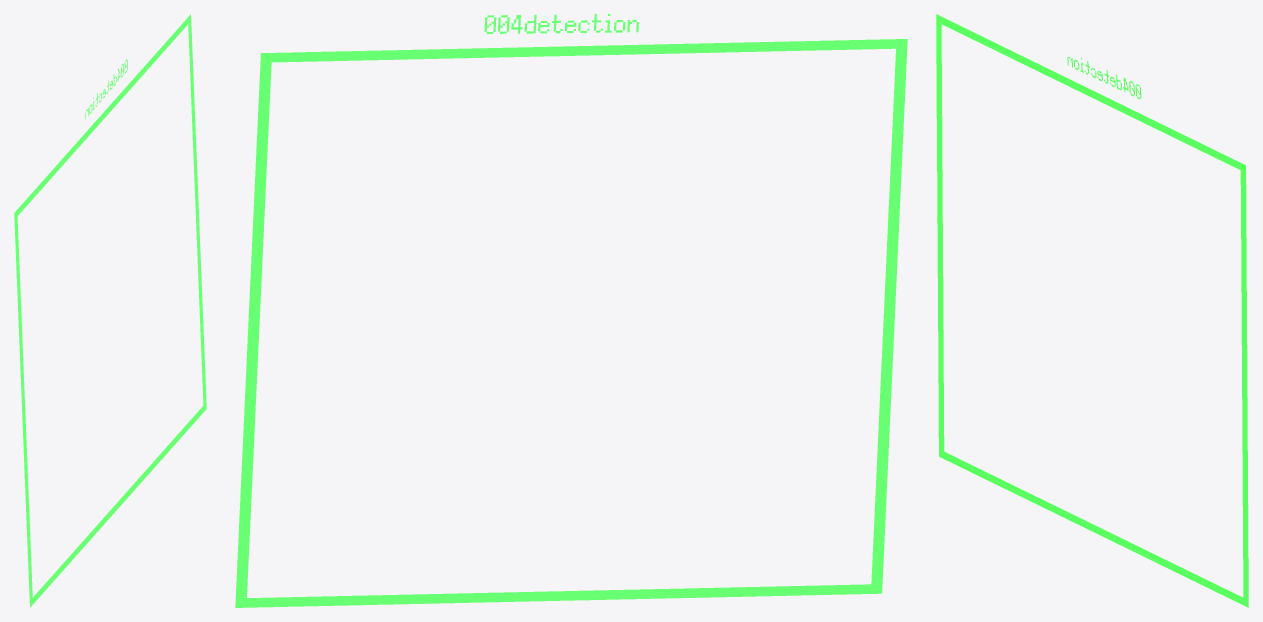
The model's file is 004detection.glb.
The picture shows the model from 3 angles, left to right: view 1: azimuth 30°, elevation 25°; view 2: azimuth 150°, elevation 25°; view 3: azimuth 270°, elevation 25°; orthographic projection. The views are drawn at different scales.
Parts seen in each view (by area): view 1: Detection02.002, Text.008; view 2: Detection02.002, Text.008; view 3: Detection02.002, Text.008.
Part boxes in pixels (bbox=[...]): Detection02.002: bbox=[14, 14, 206, 607]; Text.008: bbox=[85, 59, 127, 118]; Detection02.002: bbox=[235, 39, 907, 607]; Text.008: bbox=[484, 14, 638, 33]; Detection02.002: bbox=[936, 14, 1248, 607]; Text.008: bbox=[1067, 56, 1141, 99].
Bounding box in the file's own units: 1.32 × 1.62 × 0.9758.
